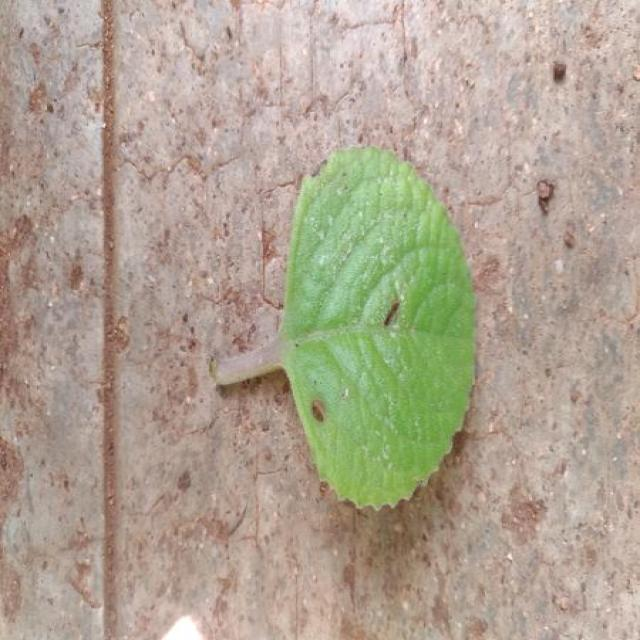doddpathre: (212, 148, 475, 507)
